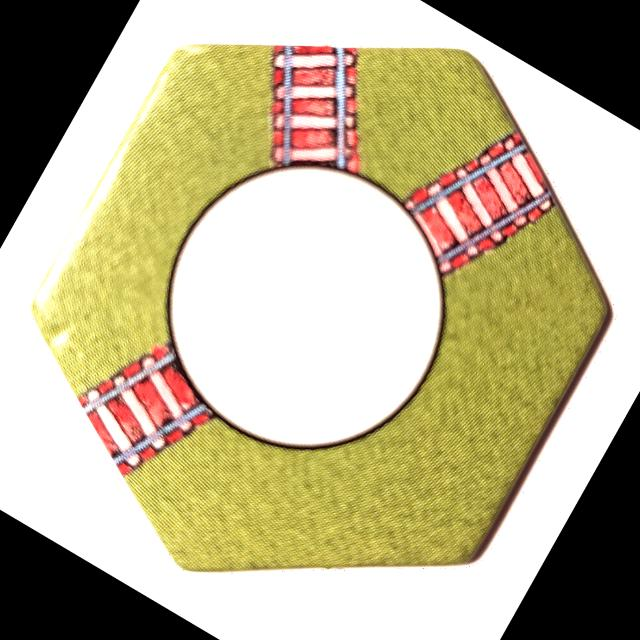14_1: (32, 44, 612, 568)
